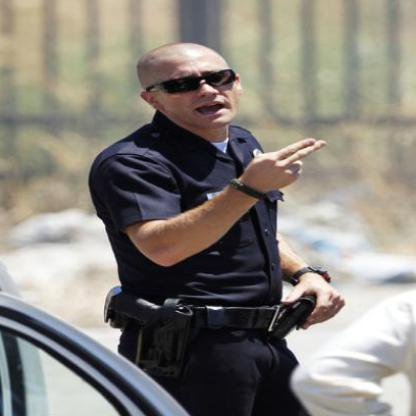person: (96, 39, 335, 415)
